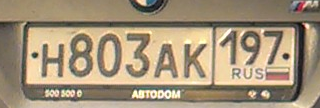character: (125, 31, 152, 80), (96, 31, 123, 78), (180, 41, 210, 82), (68, 33, 93, 79), (154, 42, 180, 81), (40, 43, 66, 81), (240, 28, 263, 68), (262, 27, 284, 67), (217, 28, 239, 67)
